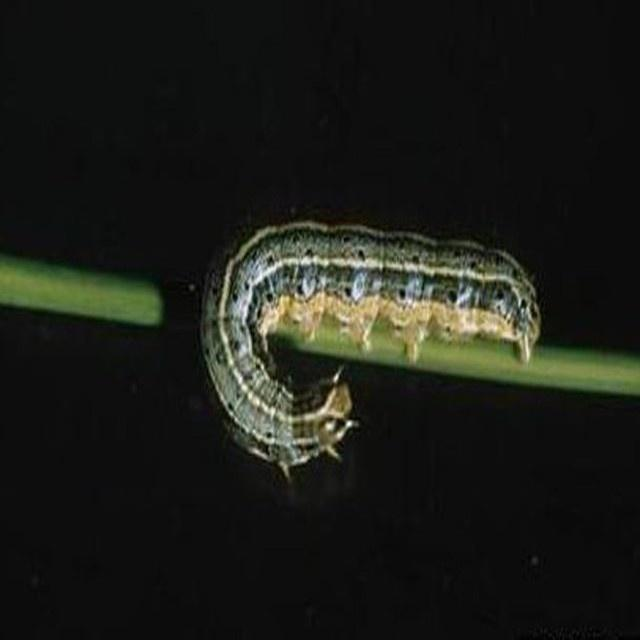gusano_cogollero: (195, 217, 538, 465)
